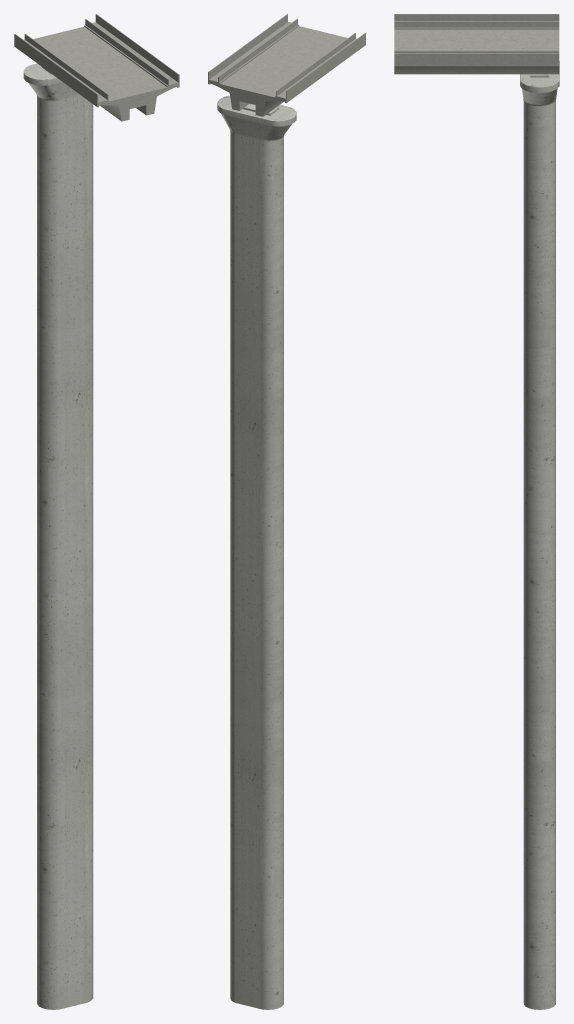
File: 高架桥（长）单线版本.fbx
The picture shows the model from 3 angles, left to right: view 1: azimuth 30°, elevation 25°; view 2: azimuth 150°, elevation 25°; view 3: azimuth 270°, elevation 25°; orthographic projection. The views are drawn at different scales.
Parts seen in each view (by area): view 1: QiaoDun004, QiaoMian004; view 2: QiaoDun004, QiaoMian004; view 3: QiaoDun004, QiaoMian004.
Part boxes in pixels (bbox=[...]): QiaoDun004: bbox=[23, 63, 93, 1009]; QiaoMian004: bbox=[14, 14, 179, 121]; QiaoDun004: bbox=[217, 95, 296, 1009]; QiaoMian004: bbox=[208, 14, 365, 116]; QiaoDun004: bbox=[520, 61, 559, 1009]; QiaoMian004: bbox=[394, 14, 559, 74].
Size of the model in its own units: 18.3 by 206 by 32.03.
